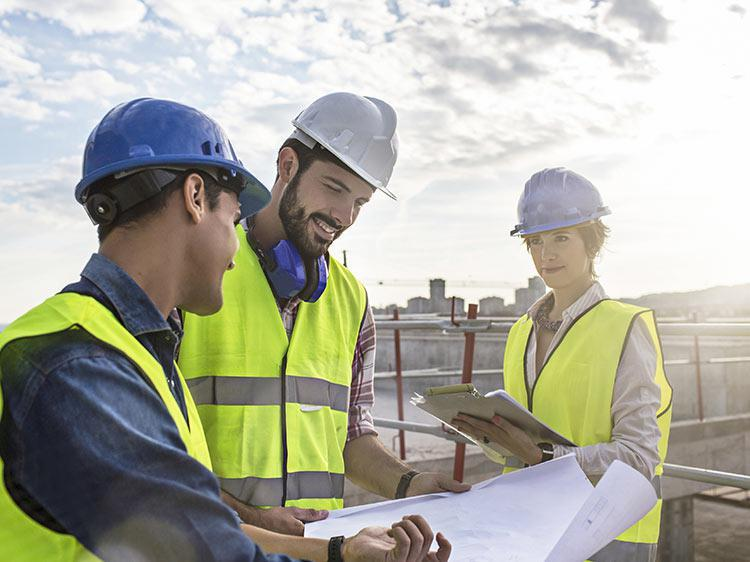helmet: (73, 97, 264, 198), (292, 89, 403, 198), (512, 166, 611, 235)
